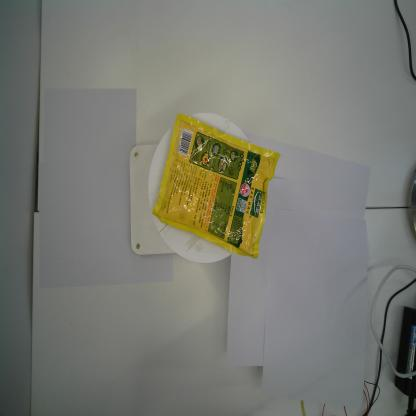Seasoner: (152, 112, 281, 260)
